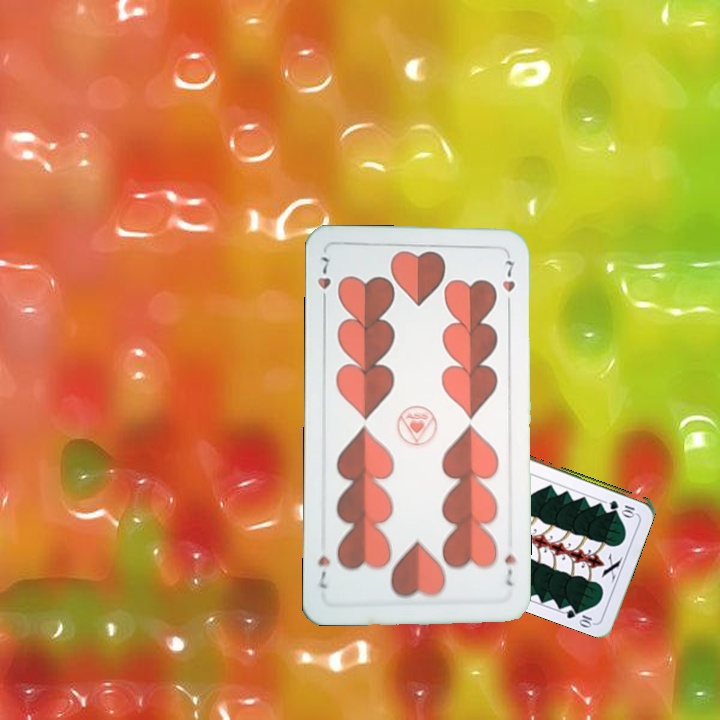G10: (605, 496, 638, 518)
H7: (314, 252, 334, 309), (500, 550, 518, 588)
